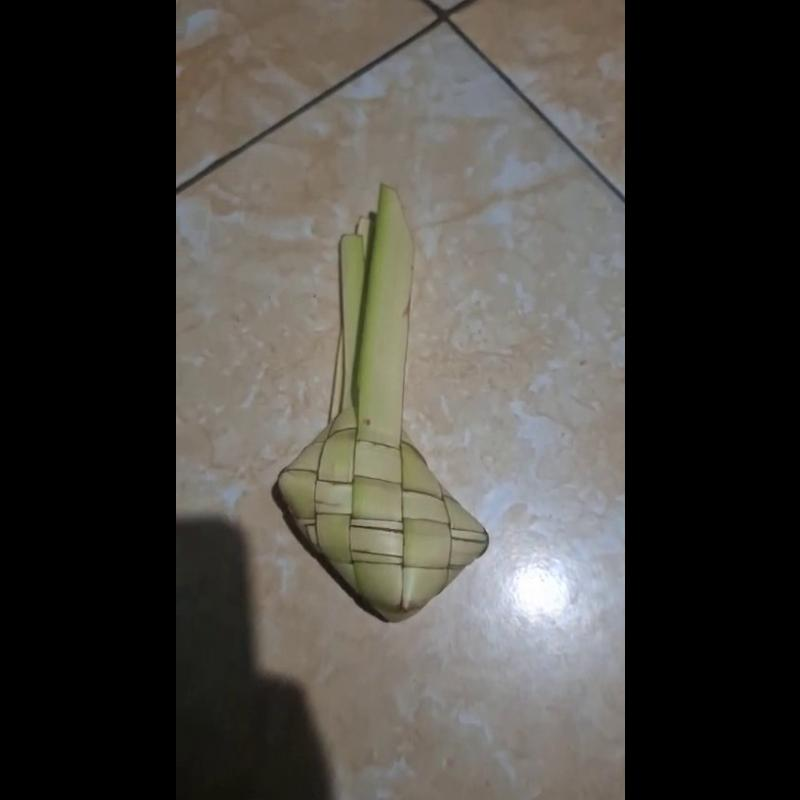Tipat Bantal: (258, 182, 498, 642)
